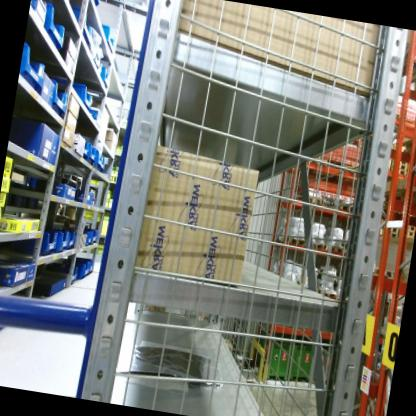pallet: (301, 148, 368, 223), (393, 37, 416, 93), (370, 262, 409, 285), (277, 232, 309, 251), (294, 193, 325, 211), (324, 240, 348, 261), (389, 150, 411, 166), (376, 220, 403, 233), (376, 226, 402, 239), (385, 166, 409, 180), (320, 286, 340, 302), (305, 241, 327, 255), (389, 160, 408, 171), (400, 220, 416, 230), (403, 228, 415, 237)
